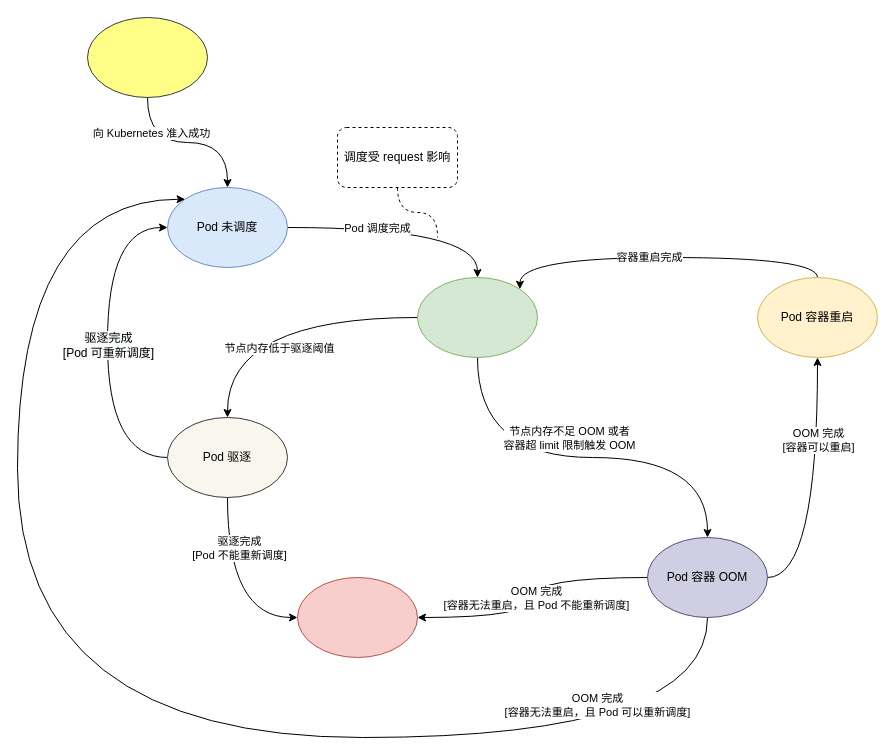
This 895x755 diagram has some shape labels left out. The shapes that lost their labels are listed below. From the top down, each one's centre as x and y in pixels, then its label:
pixel 147 57: Pod 创建
pixel 477 317: Pod 运行中
pixel 357 617: Pod 终止
